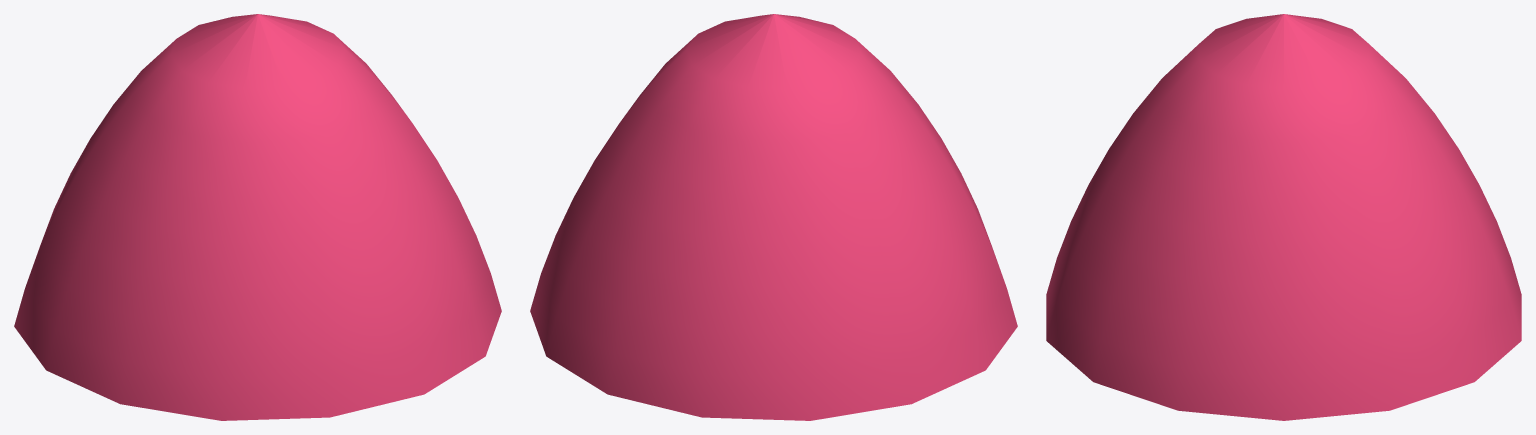
File: gomita.obj
3 views of the same model, side by side, from view 1: azimuth 30°, elevation 25°; view 2: azimuth 150°, elevation 25°; view 3: azimuth 270°, elevation 25° (orthographic).
Visible parts, largest first — view 1: Gomita; view 2: Gomita; view 3: Gomita.
Boxes of the visible parts, x1,y1,x2,y2 form: Gomita: [14, 14, 501, 420]; Gomita: [530, 14, 1017, 420]; Gomita: [1046, 14, 1521, 420].
Size of the model in its own units: 0.8 by 0.55 by 0.7799.
